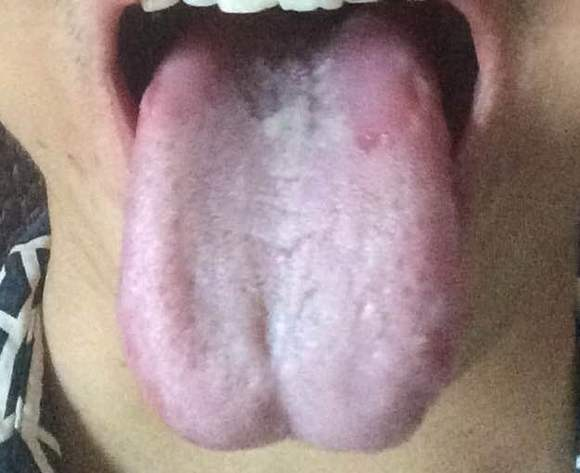baitaishe: (116, 8, 459, 452)
botaishe: (328, 45, 428, 159)
liewenshe: (256, 288, 278, 368)
shenquao: (212, 8, 367, 59)
xinfeiao: (222, 423, 353, 451)
